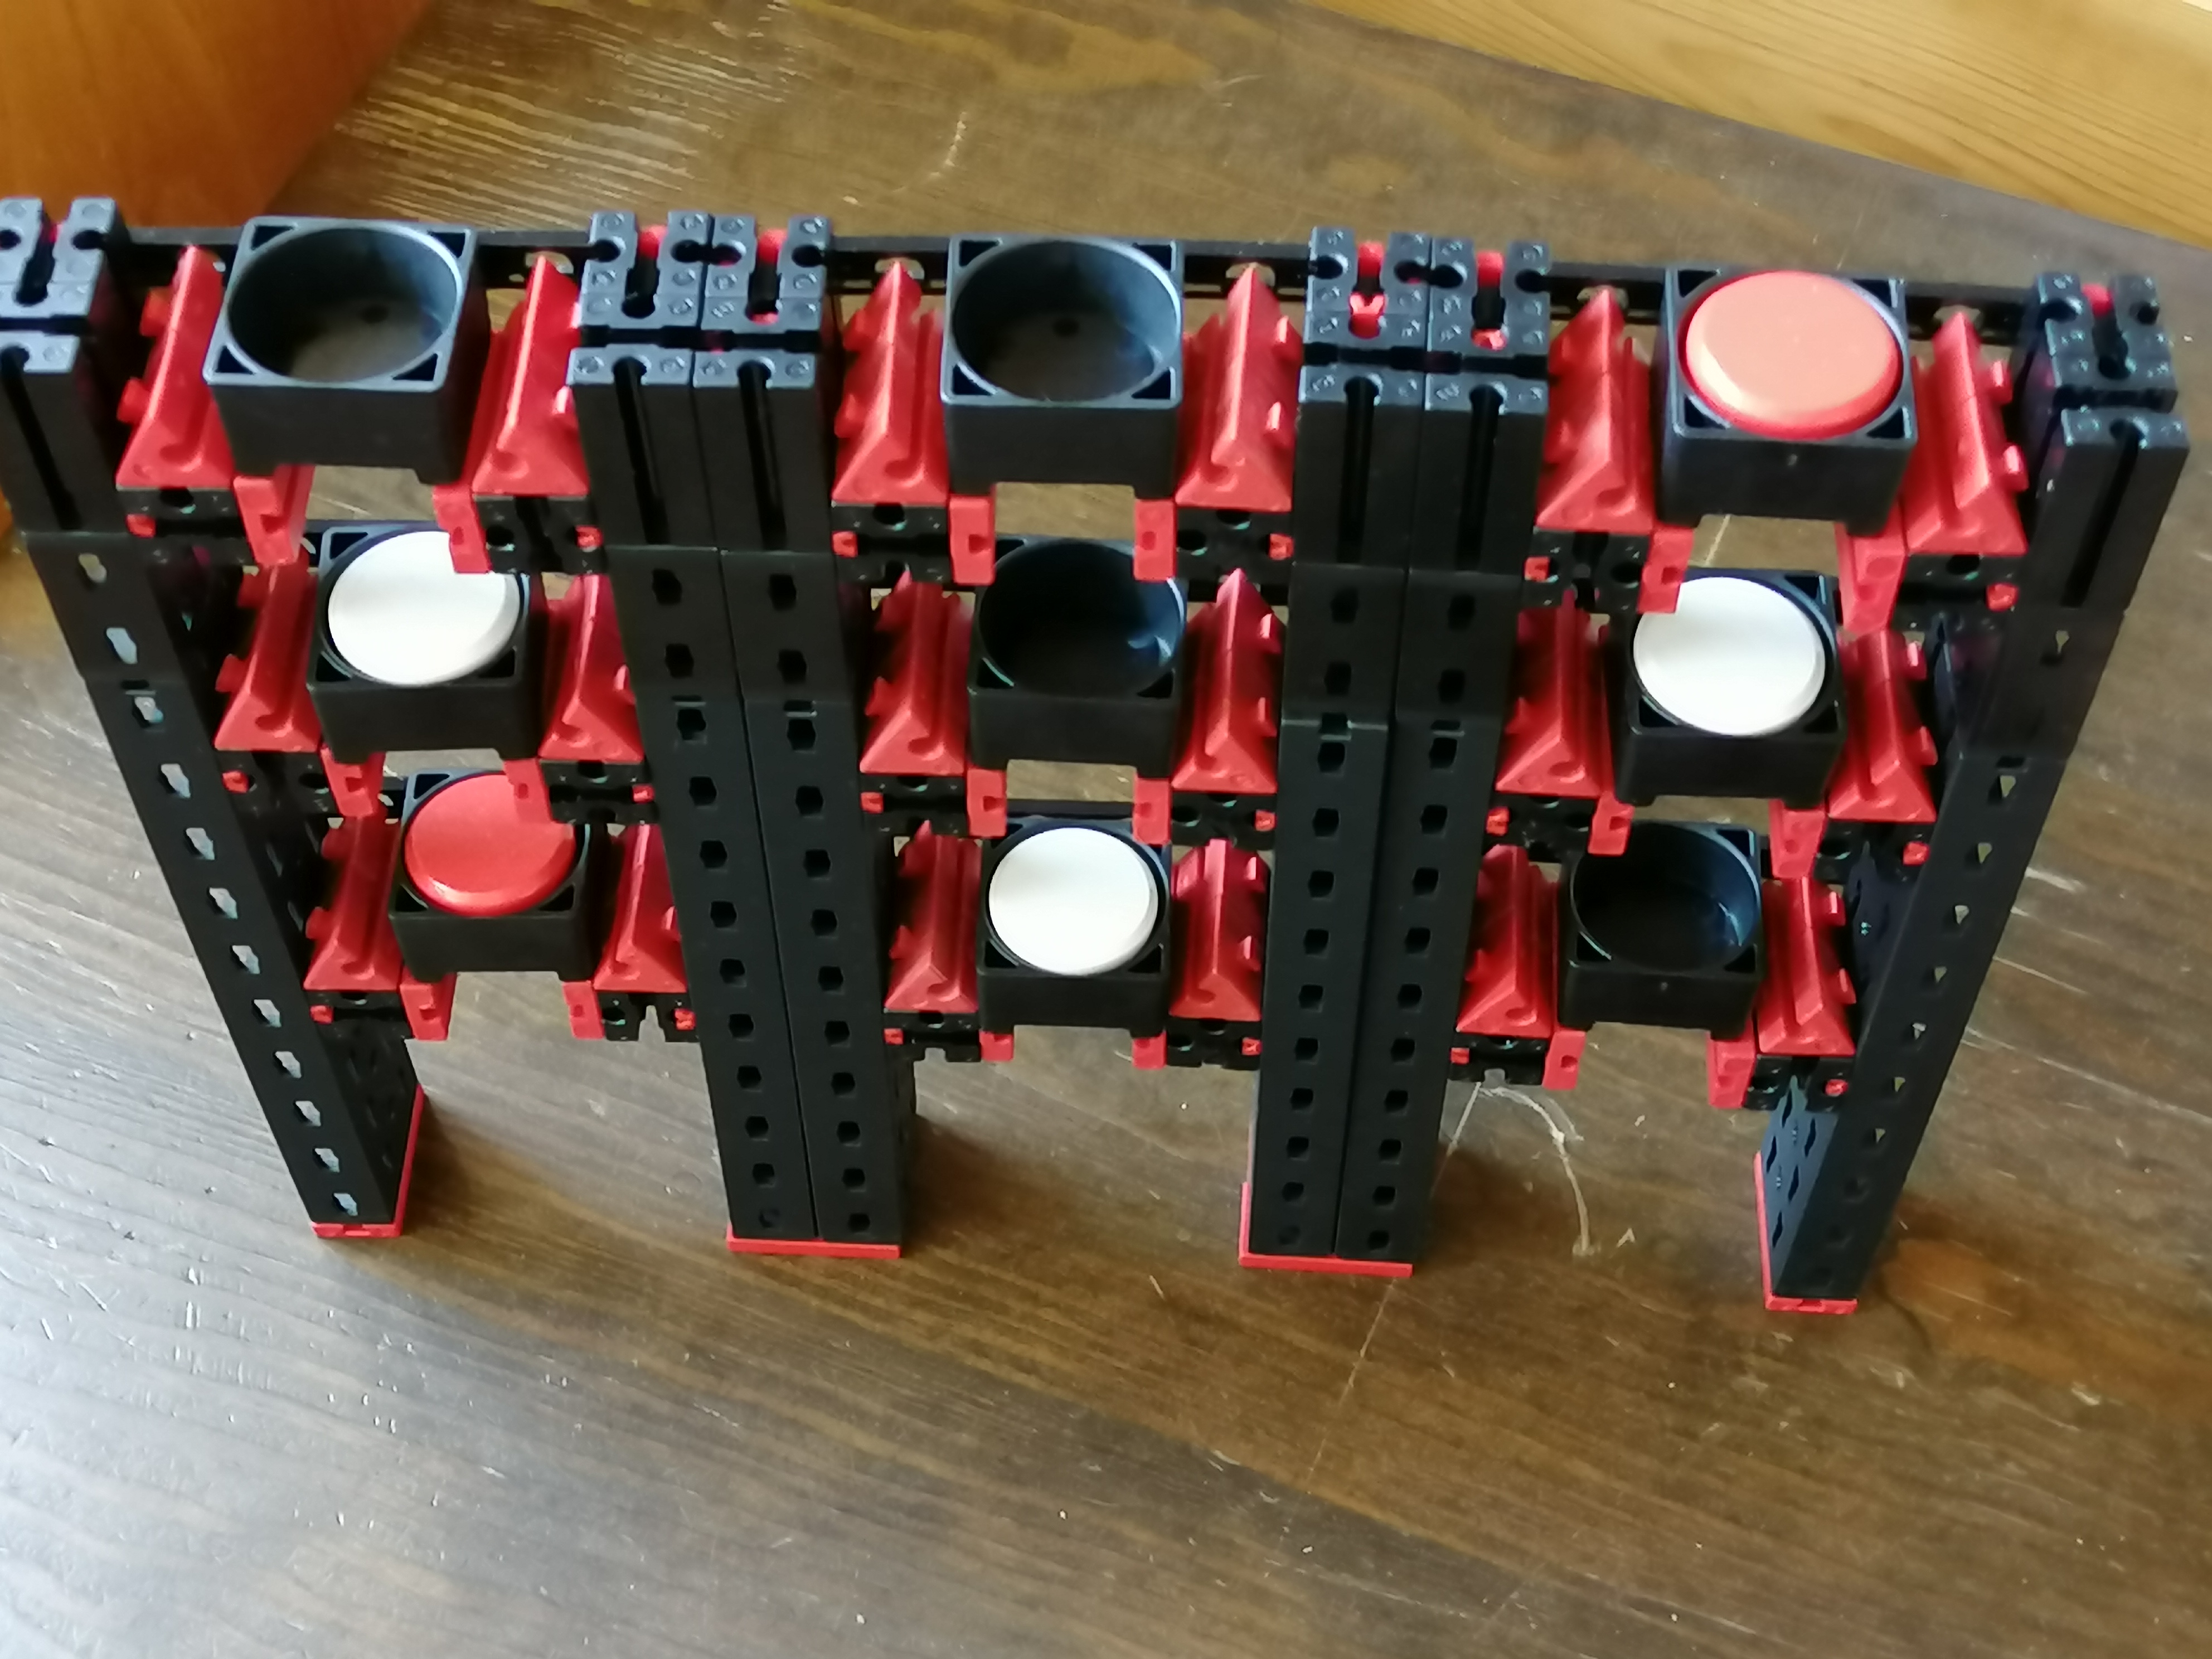Behaelter: (1656, 277, 1907, 532), (944, 230, 1181, 493), (221, 225, 465, 477), (1606, 617, 1824, 809), (319, 563, 538, 751), (970, 596, 1183, 779), (981, 850, 1177, 1026), (1561, 859, 1757, 1028), (392, 823, 597, 969)
WerkStueck: (1689, 277, 1897, 439), (1644, 612, 1827, 744), (327, 570, 519, 683), (1000, 840, 1155, 967), (413, 779, 516, 910)
